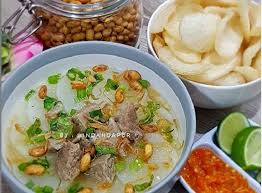soto: (4, 32, 190, 193)
